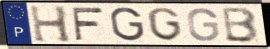B: (222, 6, 261, 44)
F: (69, 7, 105, 42)
G: (108, 6, 146, 42), (146, 7, 184, 42), (186, 7, 221, 43)
H: (28, 4, 74, 43)
